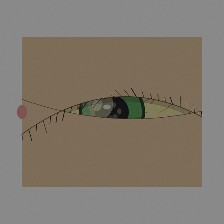corneal_ulcer: (75, 83, 127, 124)
